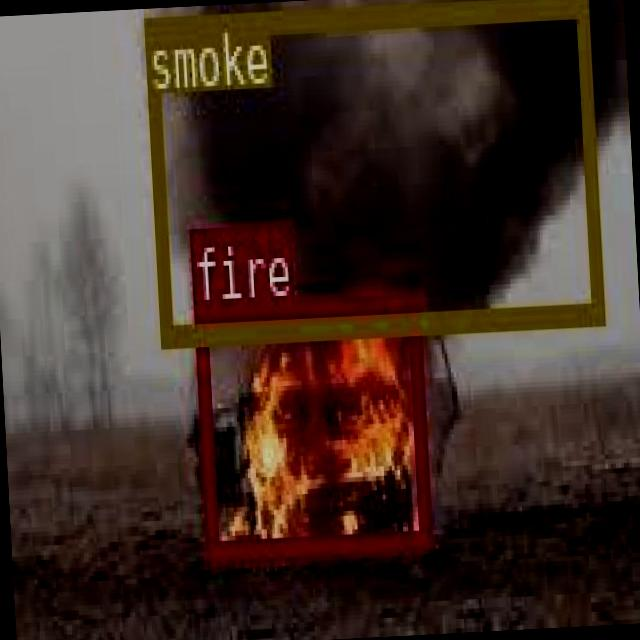fire: (192, 293, 428, 557)
smoke: (142, 0, 603, 342)
